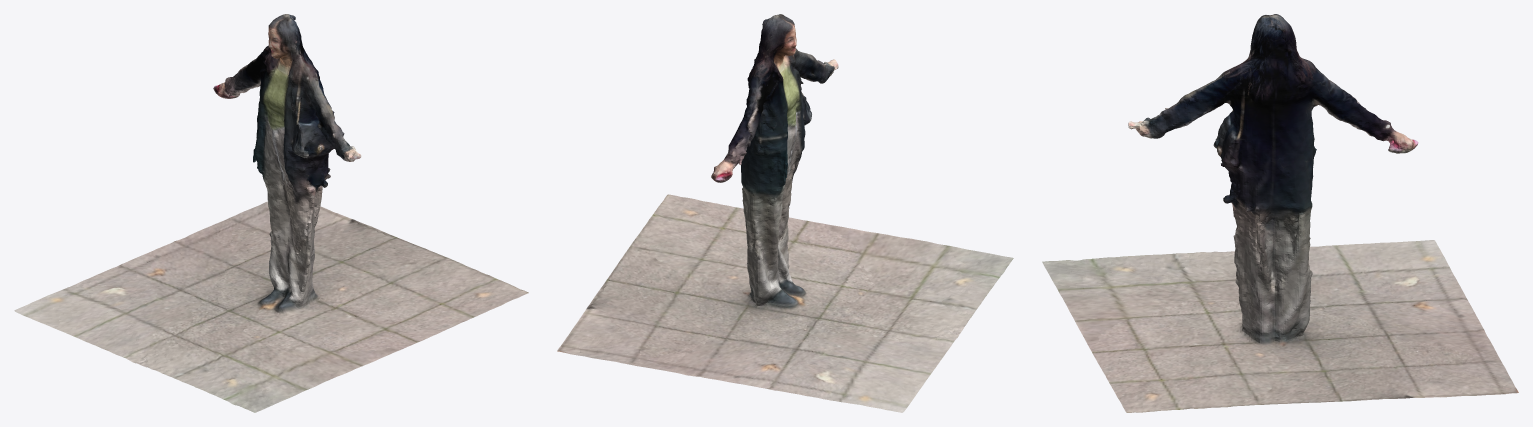
Rendered from Kriti.glb.
The picture shows the model from 3 angles, left to right: view 1: azimuth 30°, elevation 25°; view 2: azimuth 150°, elevation 25°; view 3: azimuth 270°, elevation 25°; orthographic projection. The views are drawn at different scales.
Bounding box in the file's own units: 2.31 × 1.76 × 2.29.
1 material, 1 textured.
